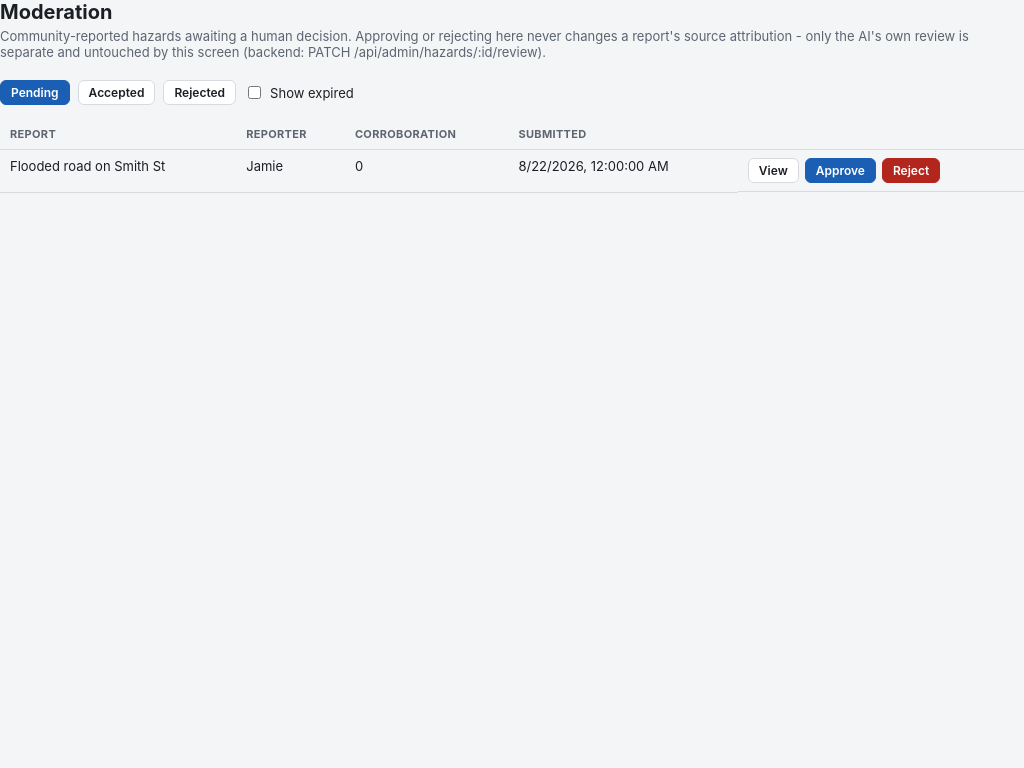
Test case: ModerationPage › rejects with a reason and refreshes the list
The width and height of the screenshot is (1024, 768).
Expected: the text "Flooded road on Smith St" is shown, [0, 150, 236, 192]
Click the button "Reject".
click(911, 170)  # box [882, 158, 940, 183]
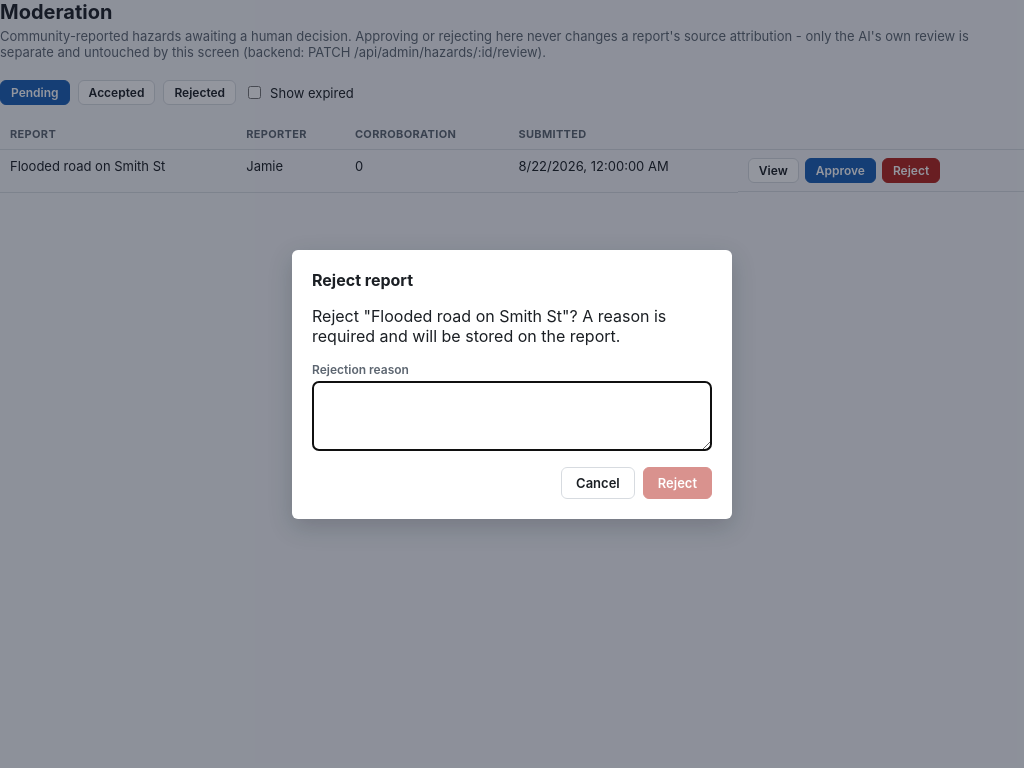
Type "Spam" into the text box labelled "Rejection reason".
click(512, 416); type("Spam")  # box [312, 380, 712, 450]
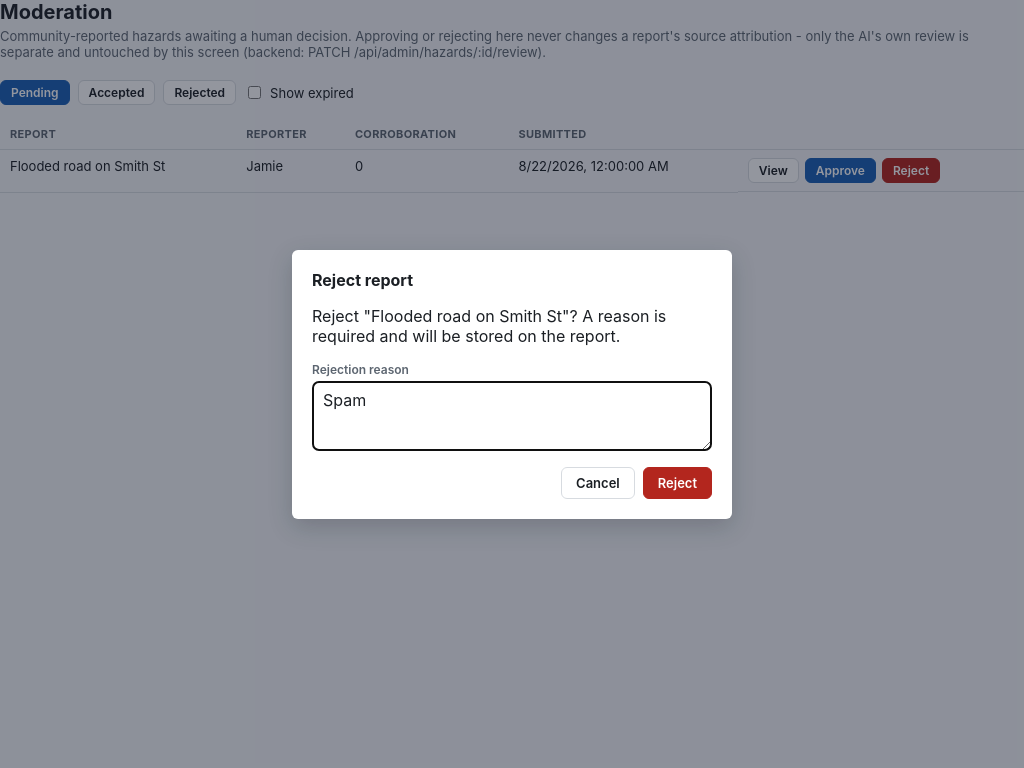
Click the button "Reject".
click(677, 482)  # box [643, 466, 712, 498]
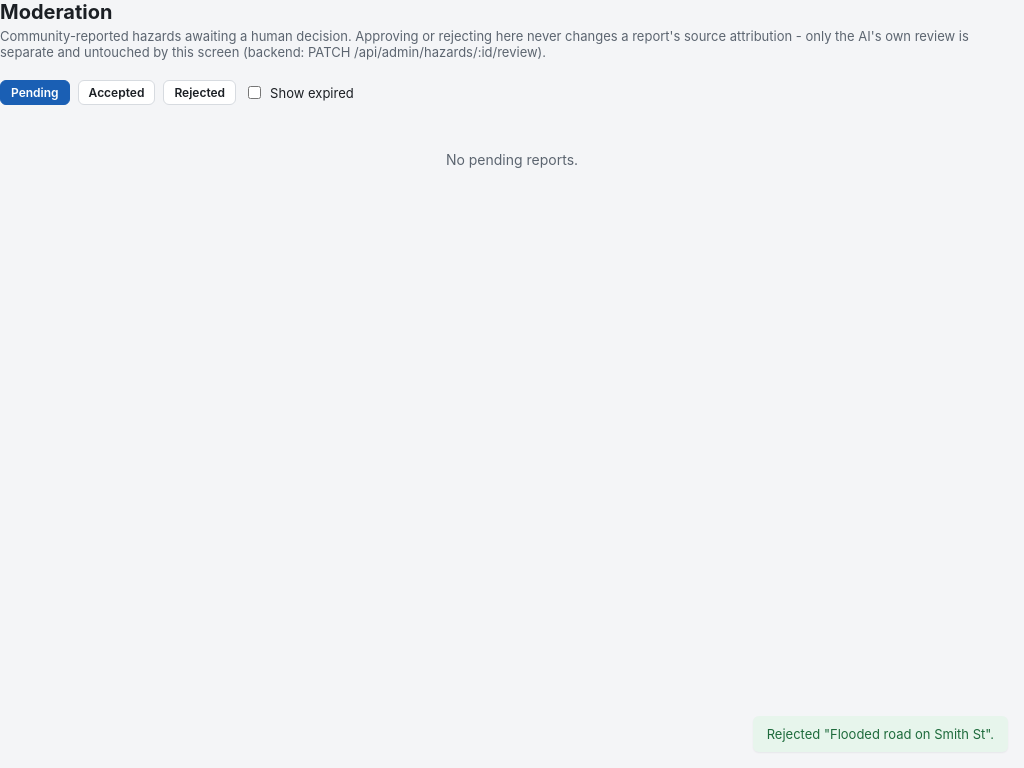
Expected: the text "No pending reports." is shown, [446, 151, 578, 168]
